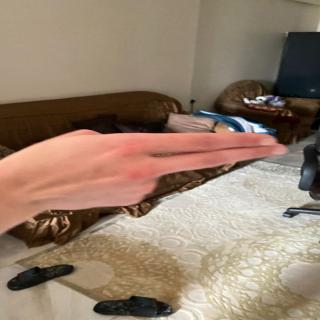AYN: (4, 115, 311, 227)
